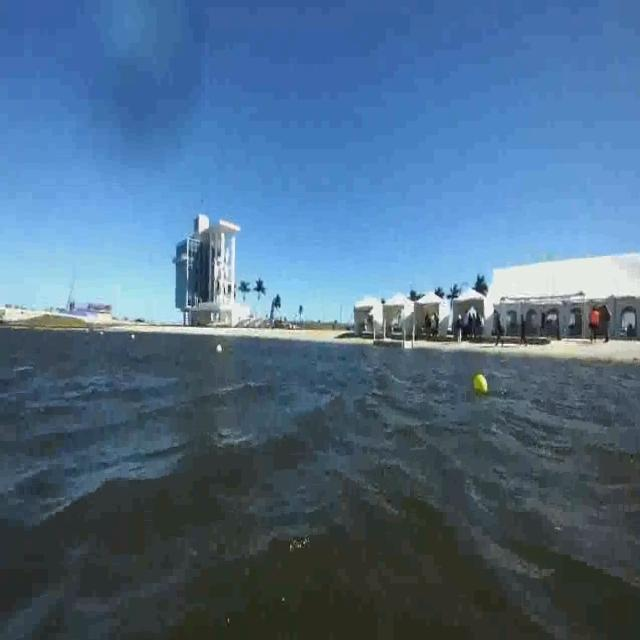yellow-buoy: (474, 372, 490, 395)
